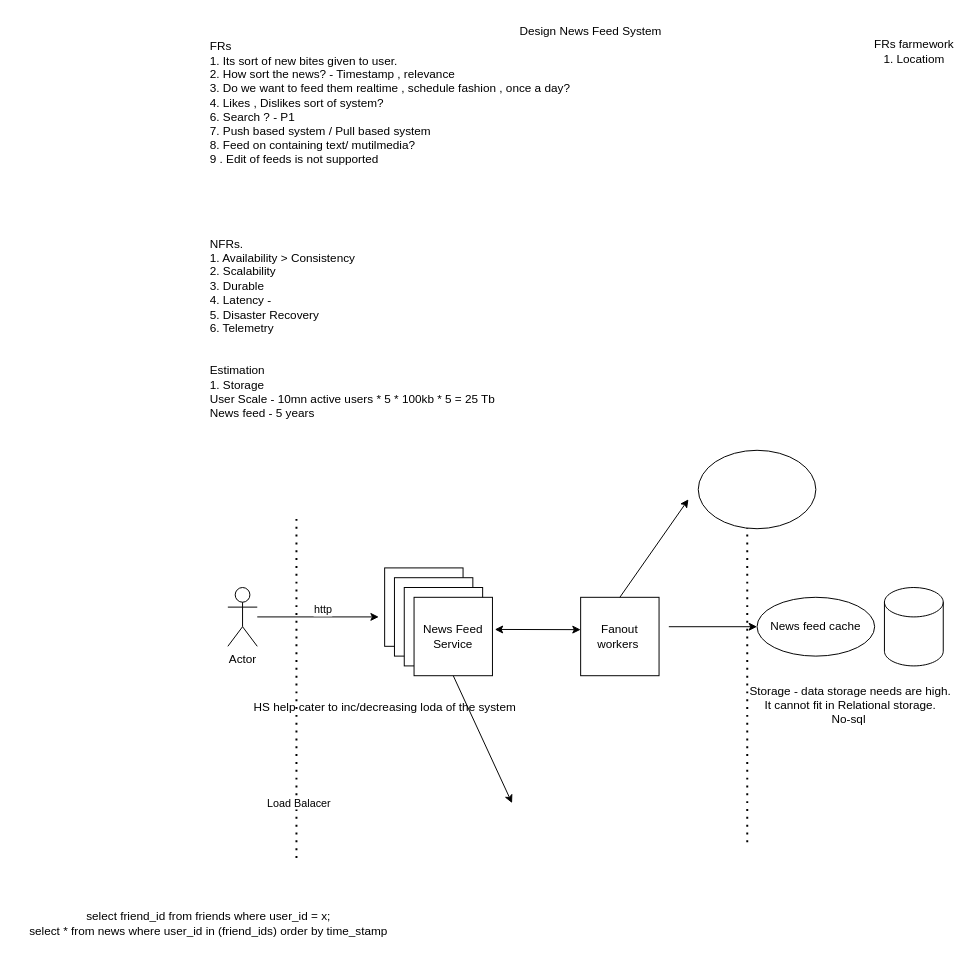
Some shapes in this 979 by 959 pixel diagram are drawn without their labels. Each missing label, with the box of its shape:
Graph db - User db: (697, 449, 816, 529)
News feed db: (883, 587, 943, 666)
